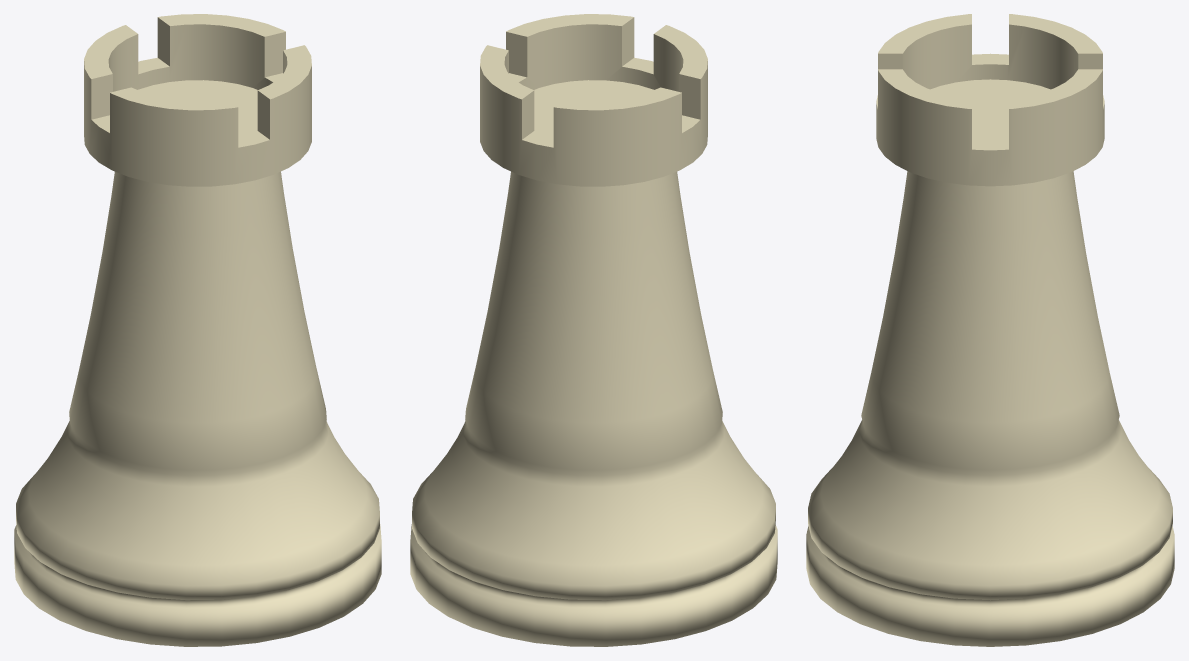
Rendered from rook_white.gltf.
3 renders of one model, left to right at view 1: azimuth 30°, elevation 25°; view 2: azimuth 150°, elevation 25°; view 3: azimuth 270°, elevation 25°, orthographic.
Parts seen in each view (by area): view 1: rook_white; view 2: rook_white; view 3: rook_white.
Boxes of the visible parts, x1,y1,x2,y2 form: rook_white: (14,14,381,646); rook_white: (410,14,777,646); rook_white: (806,14,1174,646).
Bounding box in the file's own units: 1.25 × 1.9 × 1.25.
